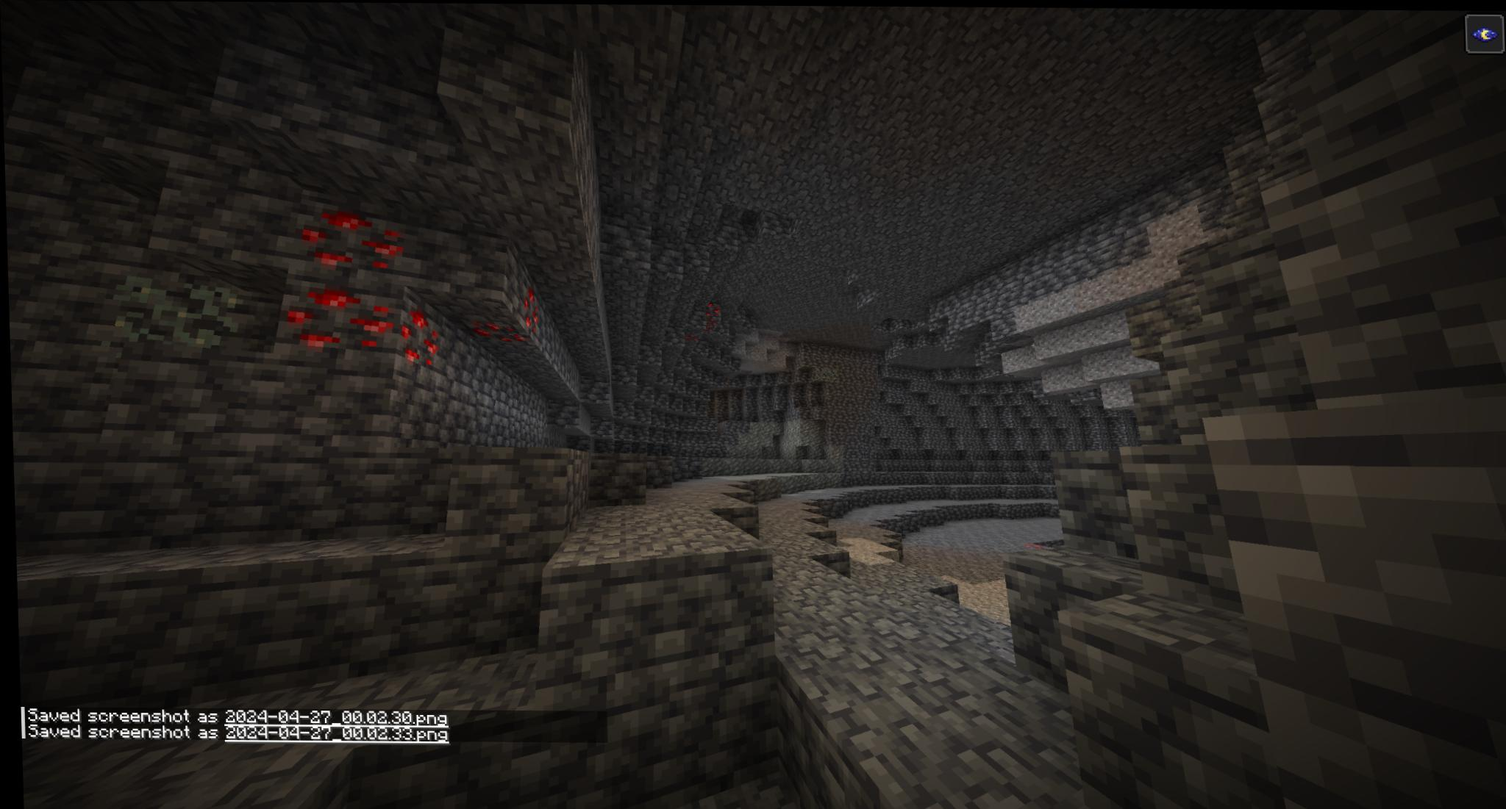redstone ore: (283, 206, 391, 277), (289, 281, 385, 355), (393, 301, 437, 376), (464, 312, 516, 344), (517, 271, 537, 338)
